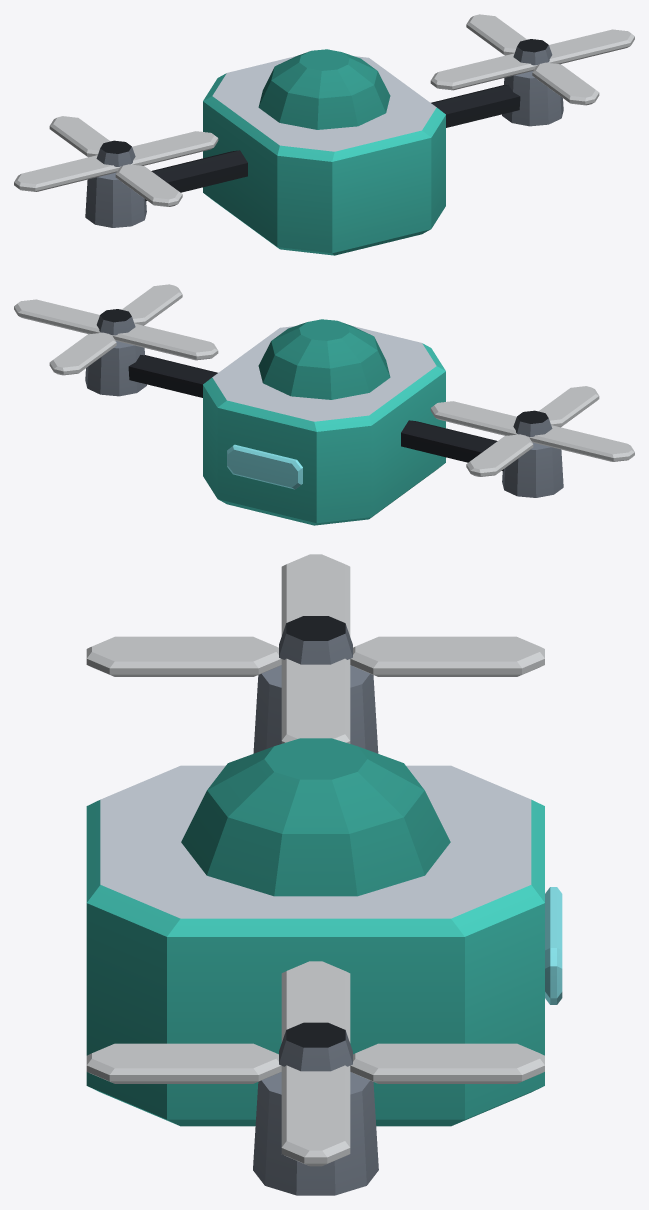
The model's file is Drone.fbx.
The picture shows the model from 3 angles, top to bottom: view 1: azimuth 30°, elevation 25°; view 2: azimuth 150°, elevation 25°; view 3: azimuth 270°, elevation 25°; orthographic projection. The views are drawn at different scales.
Parts seen in each view (by area): view 1: Hull, Struts, Dome, RotorL, RotorR; view 2: Hull, Struts, Dome, RotorL, RotorR, Eye; view 3: Hull, Dome, RotorR, RotorL, Struts, Eye.
Boxes of the visible parts, bbox=[...] form: Hull: bbox=[203, 56, 445, 255]; Struts: bbox=[85, 71, 563, 227]; Dome: bbox=[258, 49, 390, 129]; RotorL: bbox=[14, 116, 218, 206]; RotorR: bbox=[430, 14, 634, 105]; Hull: bbox=[203, 326, 445, 525]; Struts: bbox=[85, 341, 563, 497]; Dome: bbox=[258, 319, 390, 399]; RotorL: bbox=[430, 386, 634, 476]; RotorR: bbox=[14, 284, 218, 375]; Eye: bbox=[227, 444, 302, 489]; Hull: bbox=[86, 765, 544, 1126]; Dome: bbox=[181, 738, 450, 896]; RotorR: bbox=[86, 961, 544, 1166]; RotorL: bbox=[86, 554, 544, 743]; Struts: bbox=[253, 665, 378, 1195]; Eye: bbox=[545, 887, 562, 1004].
Size of the model in its own units: 1.24 by 0.28 by 0.415.
2 materials, 2 textured.
